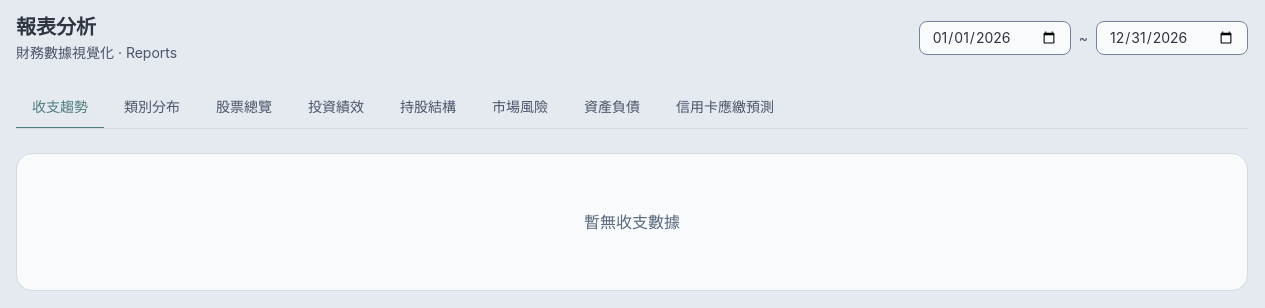
Scenario: report and snapshot query ownership › presents the forecast as credit card payments and includes a one-period amount
Click the tab "信用卡應繳預測".
click(725, 108)  # box [660,87,790,129]
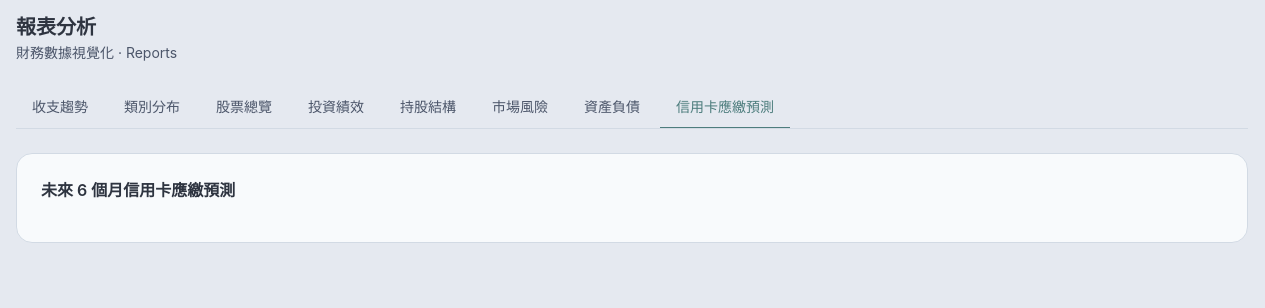
Check: the text "未來 6 個月信用卡應繳預測" is shown, box [41,180,235,200]
